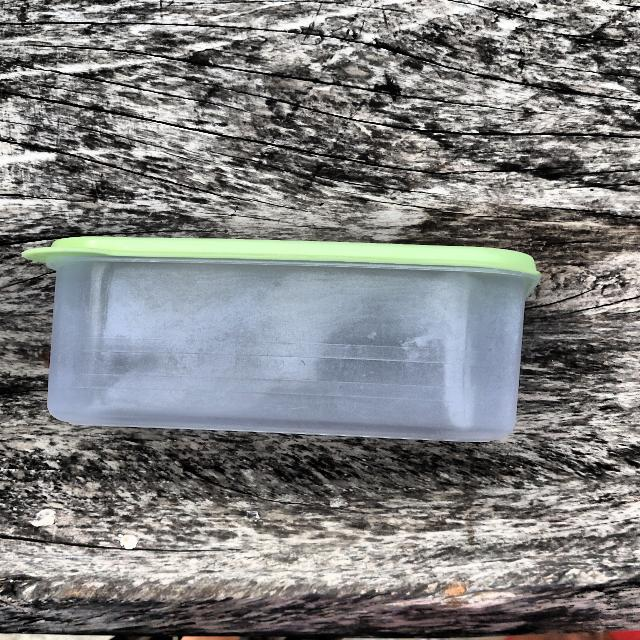plastic container: (8, 222, 547, 458)
